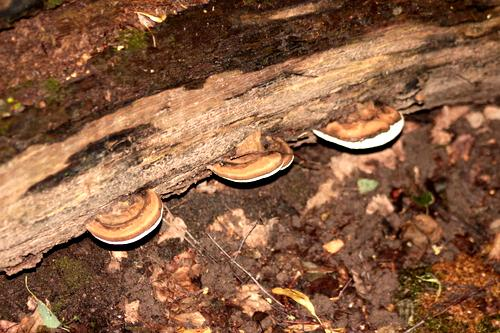Ganoderma - Fruit Body: (309, 102, 405, 153), (89, 187, 165, 247), (203, 137, 294, 184)
